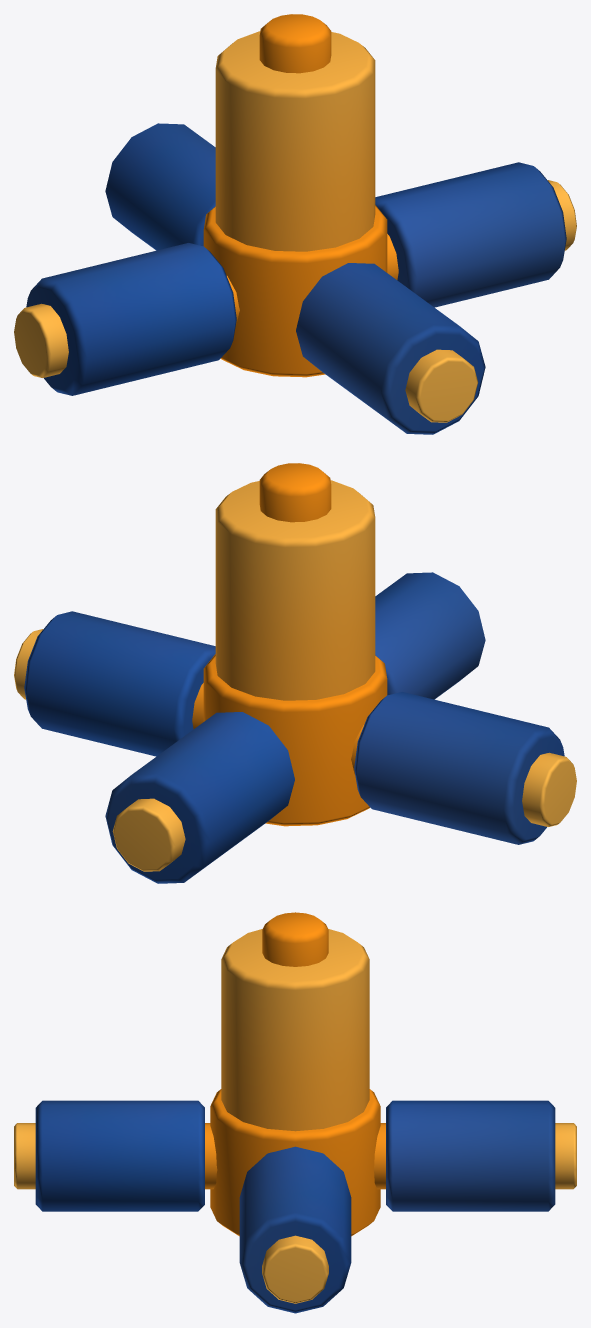
File: Spinner_4.fbx
3 renders of one model, top to bottom at view 1: azimuth 30°, elevation 25°; view 2: azimuth 150°, elevation 25°; view 3: azimuth 270°, elevation 25°, orthographic. The views are drawn at different scales.
Parts seen in each view (by area): view 1: Spinner 4; view 2: Spinner 4; view 3: Spinner 4.
Boxes of the visible parts, x1=… form: Spinner 4: x1=14, y1=14, x2=576, y2=434; Spinner 4: x1=14, y1=463, x2=576, y2=883; Spinner 4: x1=14, y1=912, x2=576, y2=1313.
Bounding box in the file's own units: 199 × 113 × 199.
